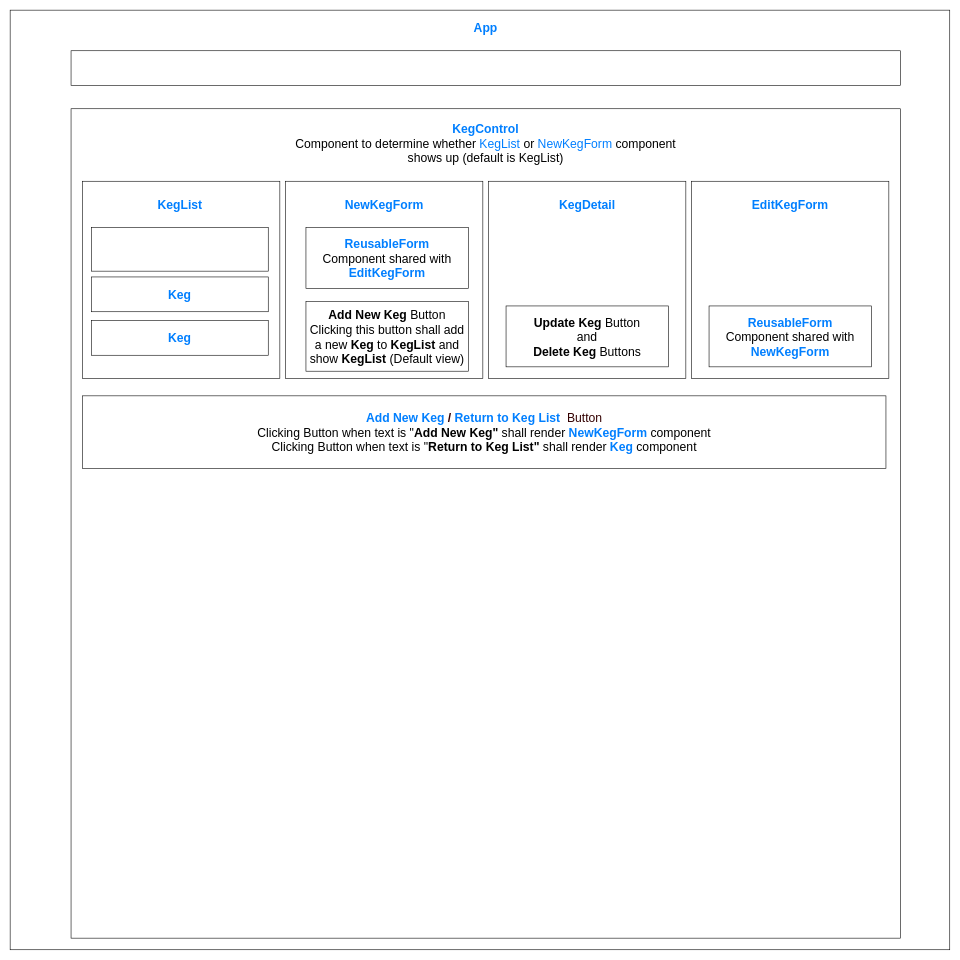
Some shapes in this 960 by 960 pixel diagram are drawn without their labels. The centre of each missing label's shape, as x and y in pixels:
Header: the point at 485,68
Keg Clicking on Keg will show Keg 's KegDetails Component: the point at 179,249
